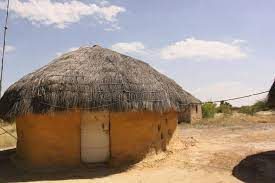Mud House: (4, 48, 184, 161)
